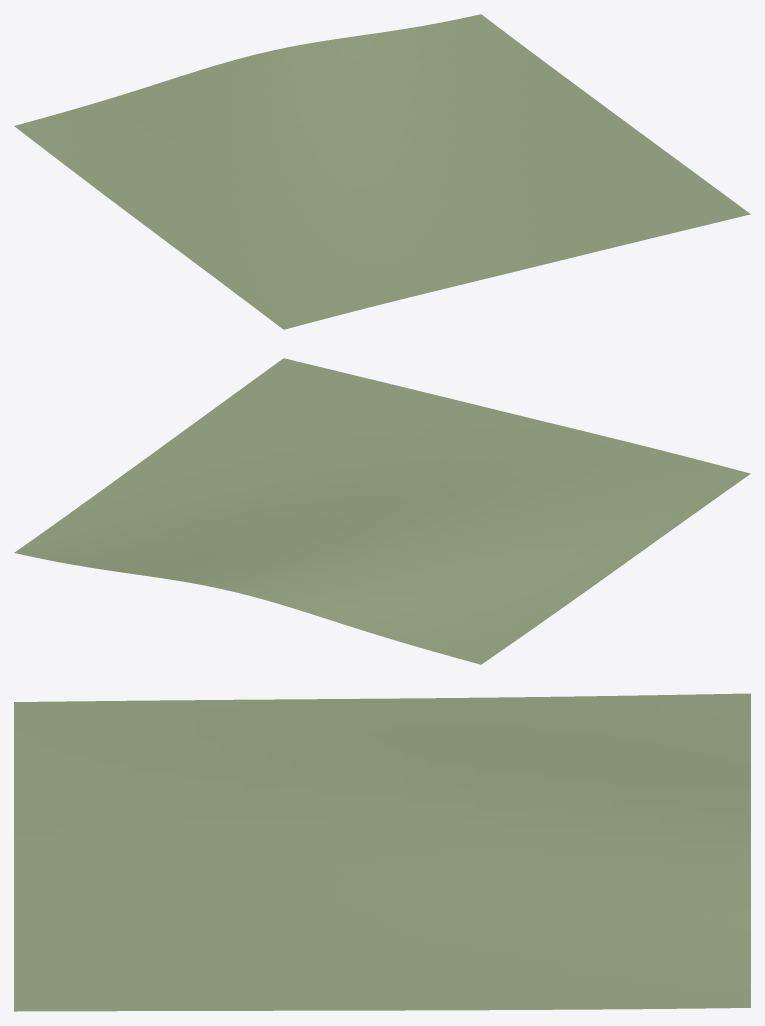
File: desert-6-11.glb
3 views of the same model, one above another, from view 1: azimuth 30°, elevation 25°; view 2: azimuth 150°, elevation 25°; view 3: azimuth 270°, elevation 25° (orthographic). The views are drawn at different scales.
Visible parts, largest first — view 1: desert-6-11; view 2: desert-6-11; view 3: desert-6-11.
Boxes of the visible parts, bbox=[...] form: desert-6-11: bbox=[14, 14, 750, 329]; desert-6-11: bbox=[14, 358, 750, 664]; desert-6-11: bbox=[14, 693, 750, 1011].
Size of the model in its own units: 512 by 19.78 by 512.
